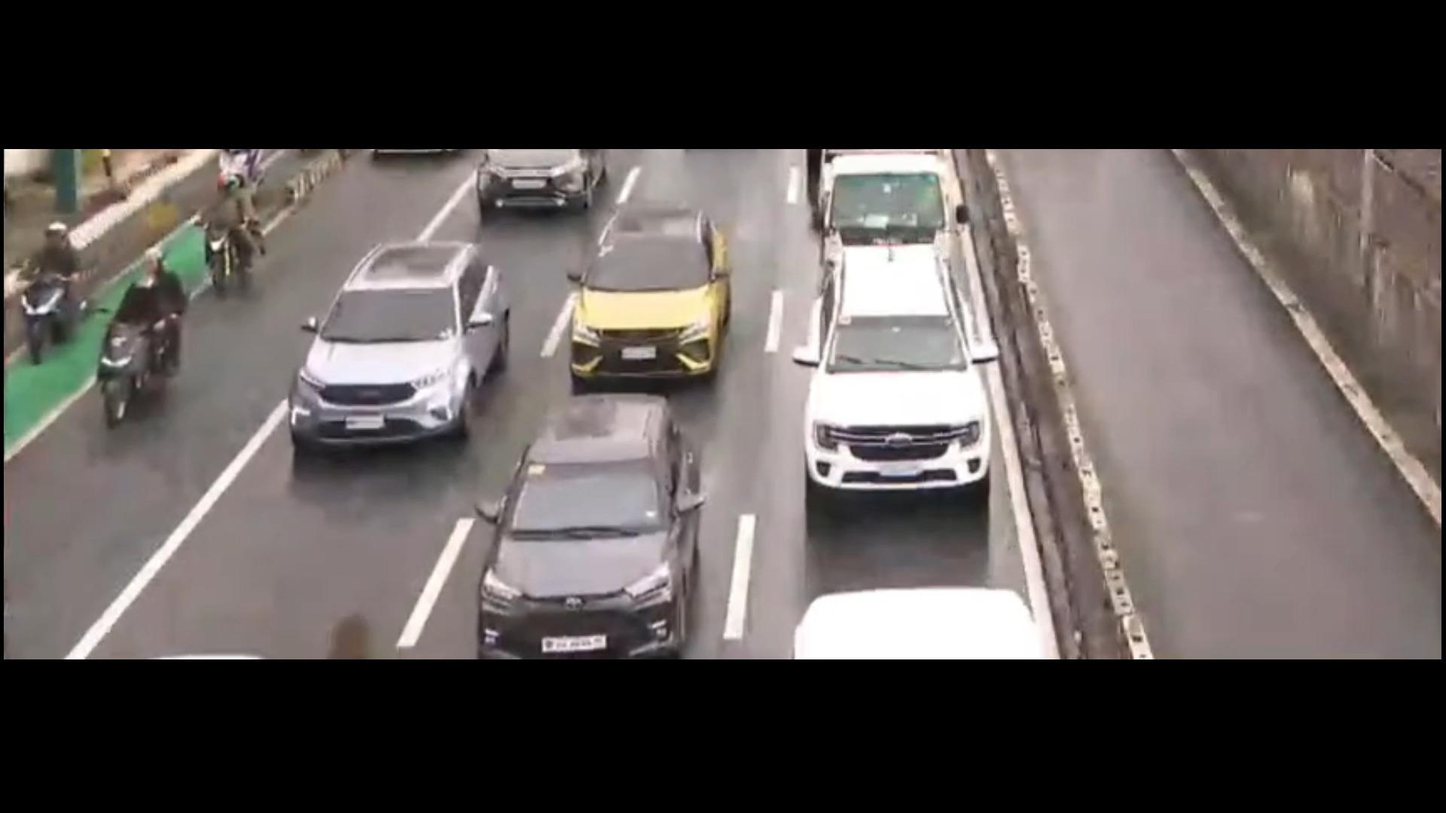Motorcycle: (61, 247, 207, 449), (0, 211, 93, 366), (186, 174, 279, 288)
SUV: (469, 389, 726, 655), (275, 230, 521, 485), (792, 247, 998, 497), (555, 189, 750, 395)
Truck: (795, 155, 972, 266)
